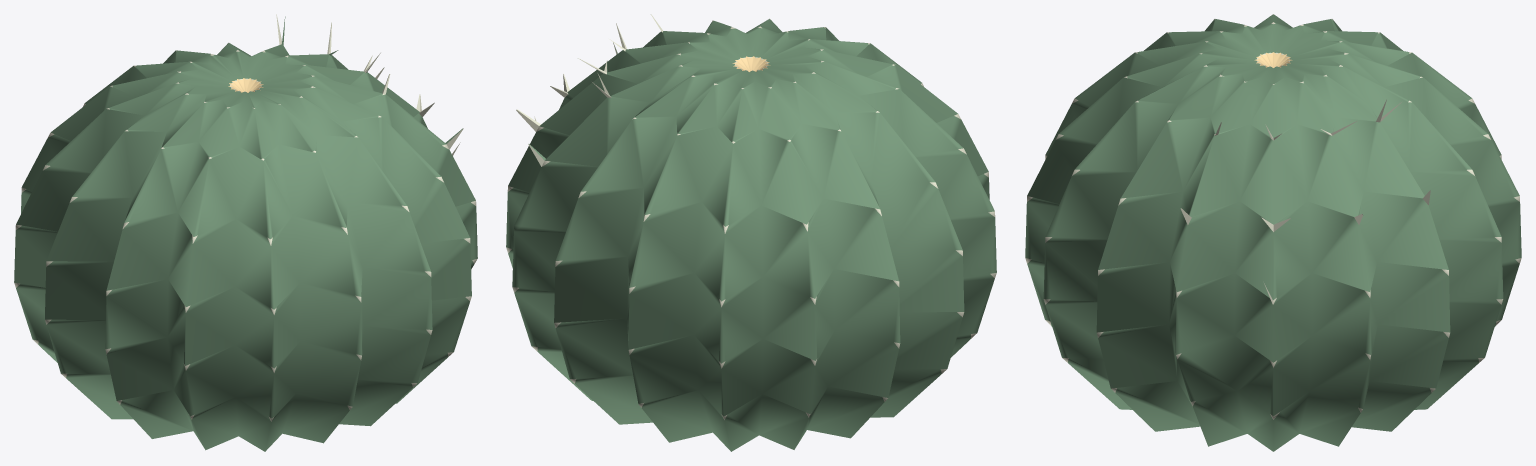
The model's file is kaktu.fbx.
3 renders of one model, left to right at view 1: azimuth 30°, elevation 25°; view 2: azimuth 150°, elevation 25°; view 3: azimuth 270°, elevation 25°, orthographic. The views are drawn at different scales.
Visible parts, largest first — view 1: pCube133; view 2: pCube133; view 3: pCube133.
Boxes of the visible parts, x1,y1,x2,y2 form: pCube133: [14, 14, 477, 451]; pCube133: [506, 14, 996, 451]; pCube133: [1025, 14, 1521, 451].
Size of the model in its own units: 4.51 by 3.25 by 4.42.
